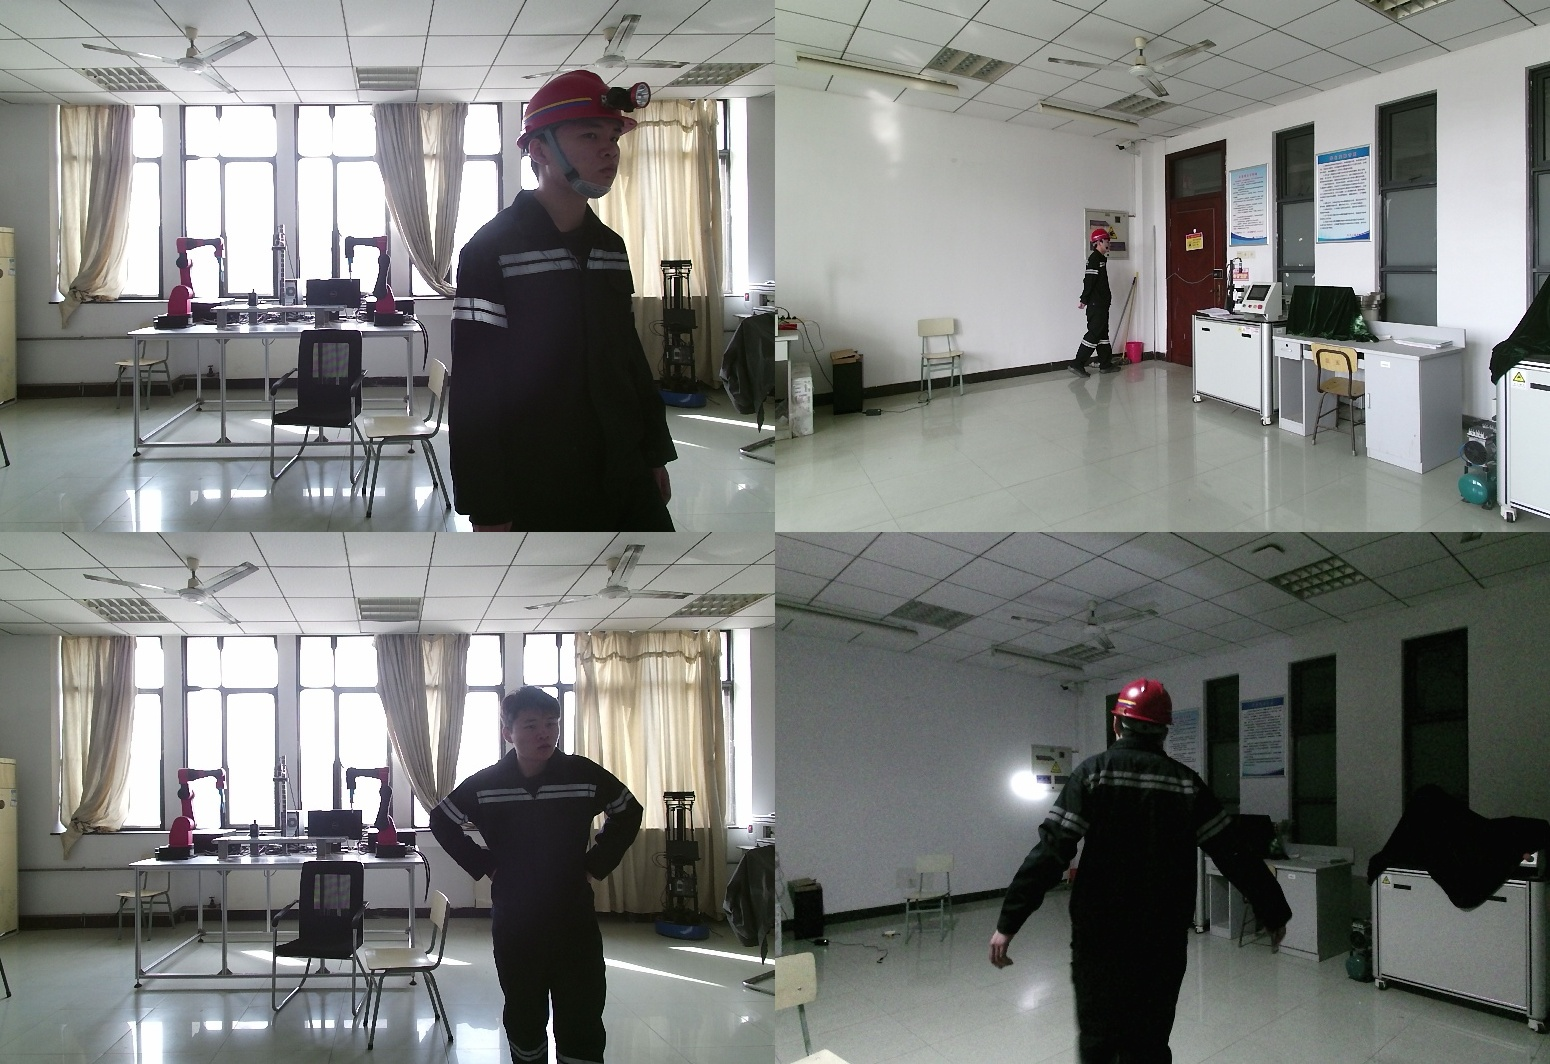person: (997, 676, 1305, 1064), (455, 70, 690, 532), (437, 684, 674, 1064), (1071, 231, 1116, 382)
